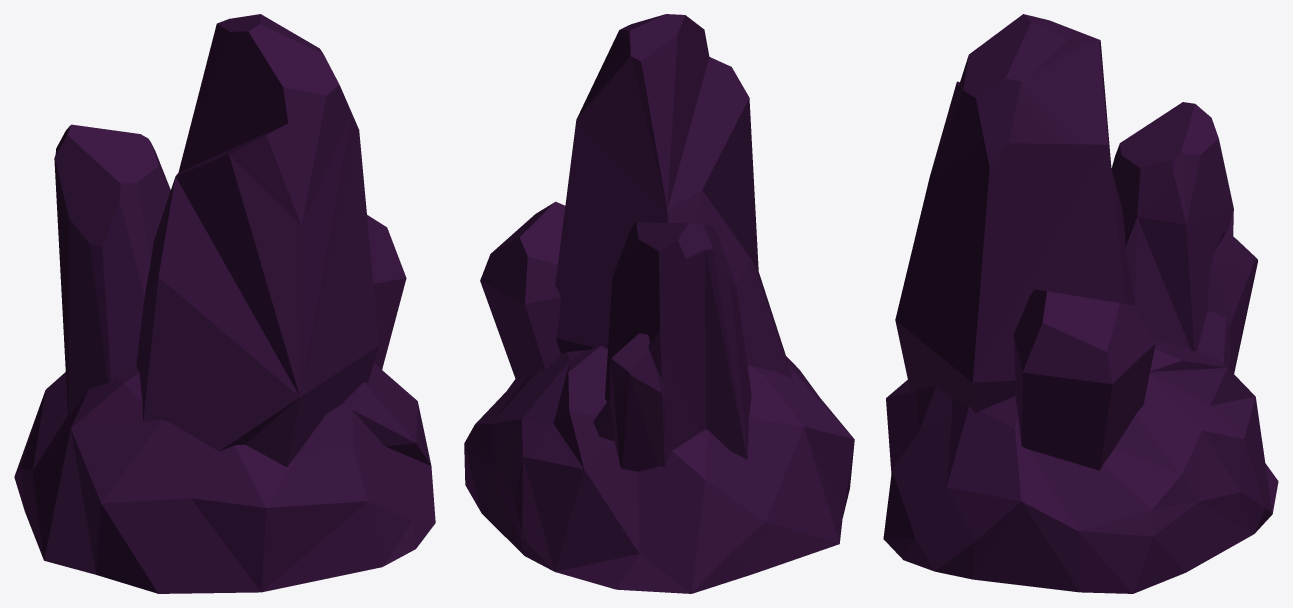
Rendered from small_ore.fbx.
3 renders of one model, left to right at view 1: azimuth 30°, elevation 25°; view 2: azimuth 150°, elevation 25°; view 3: azimuth 270°, elevation 25°, orthographic. The views are drawn at different scales.
Parts seen in each view (by area): view 1: small_ore; view 2: small_ore; view 3: small_ore.
Part boxes in pixels (x1,y1,x2,y2): small_ore: (14, 14, 435, 593); small_ore: (464, 14, 854, 593); small_ore: (883, 14, 1278, 593).
Size of the model in its own units: 0.6344 by 0.6078 by 0.8393.
